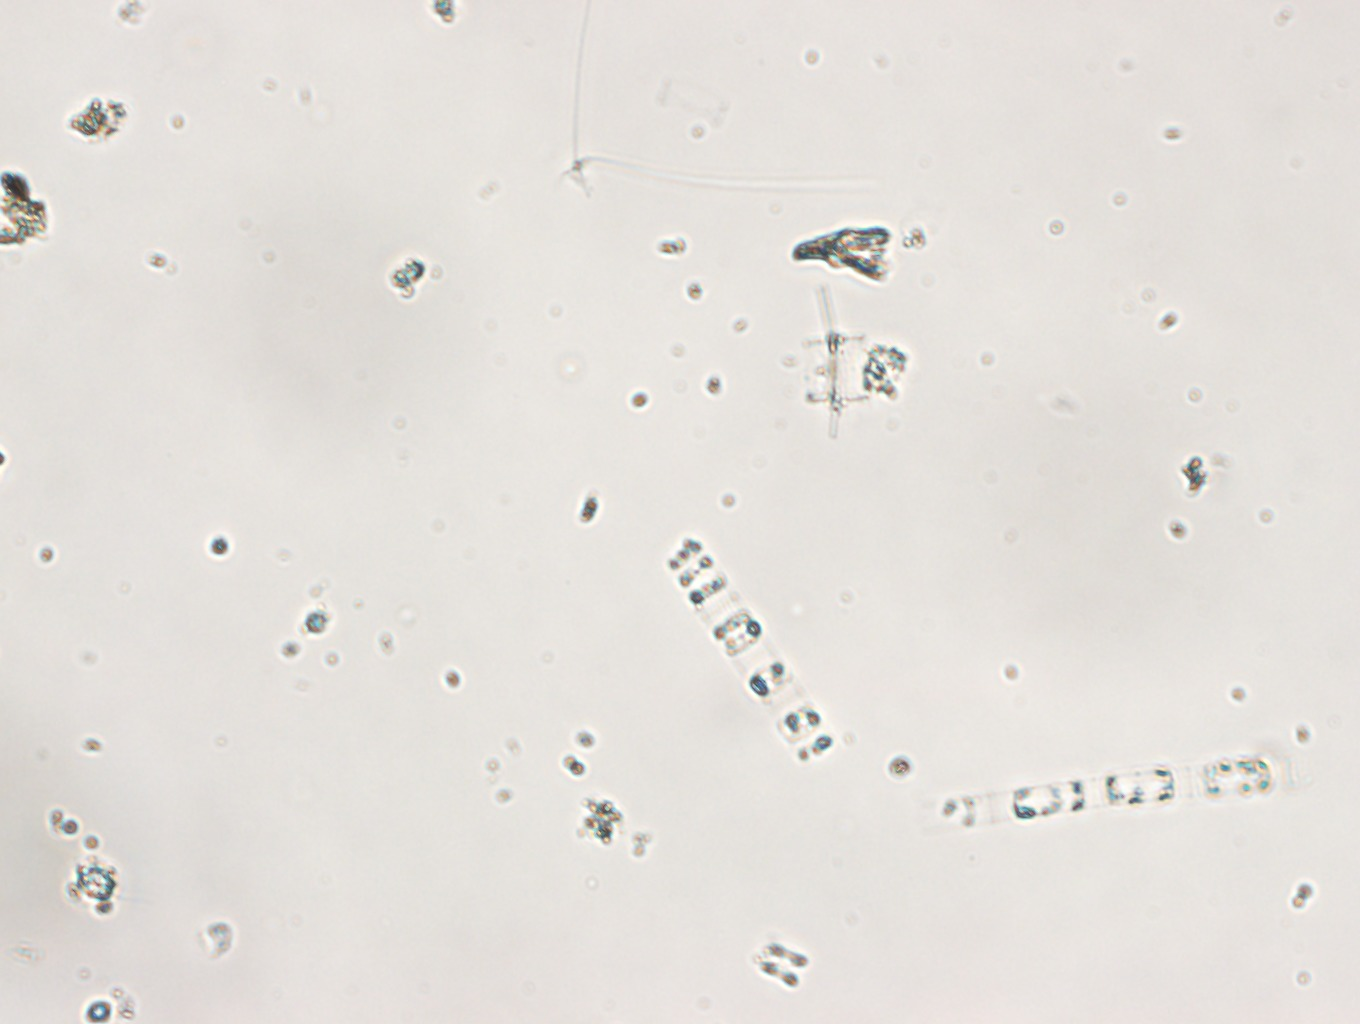skeletonema: (664, 529, 839, 768), (932, 754, 1295, 838)
